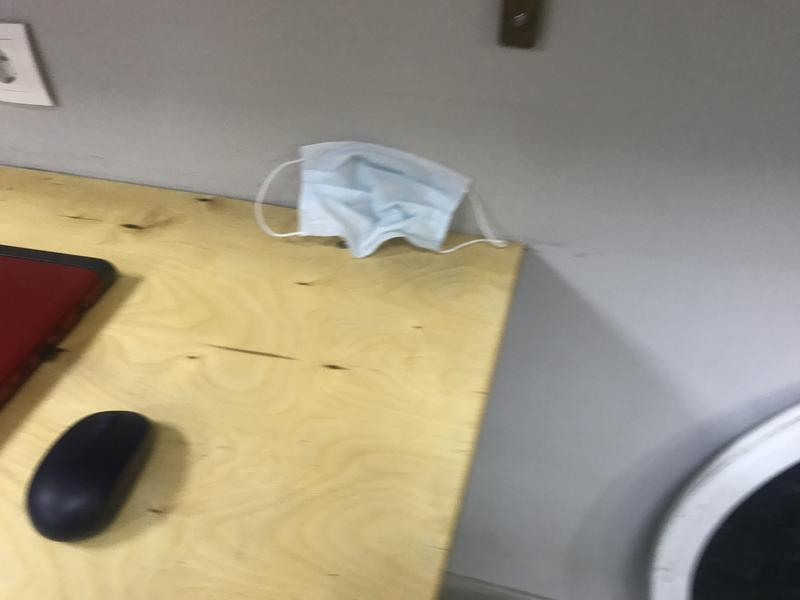medical_mask: (253, 141, 509, 261)
